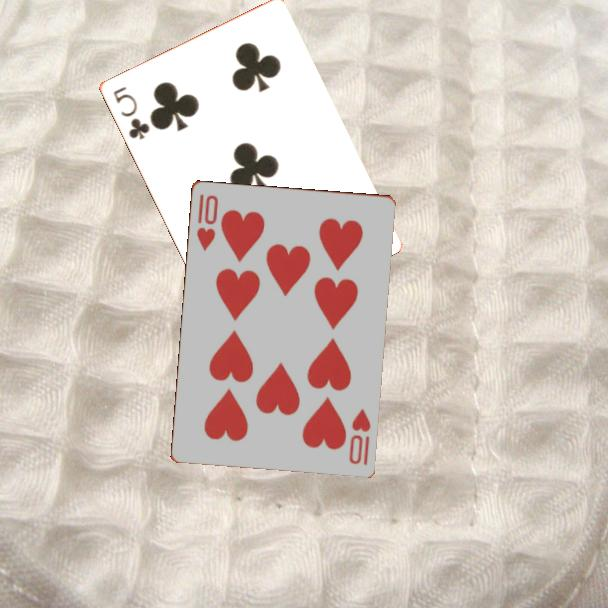c05: (109, 83, 152, 143)
h10: (193, 190, 221, 253), (345, 405, 373, 468)
